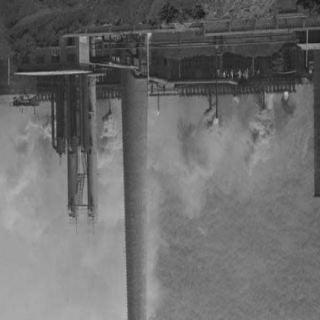Fire: (210, 113, 222, 129)
